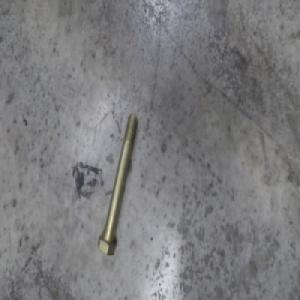Bolt: (96, 108, 138, 248)
